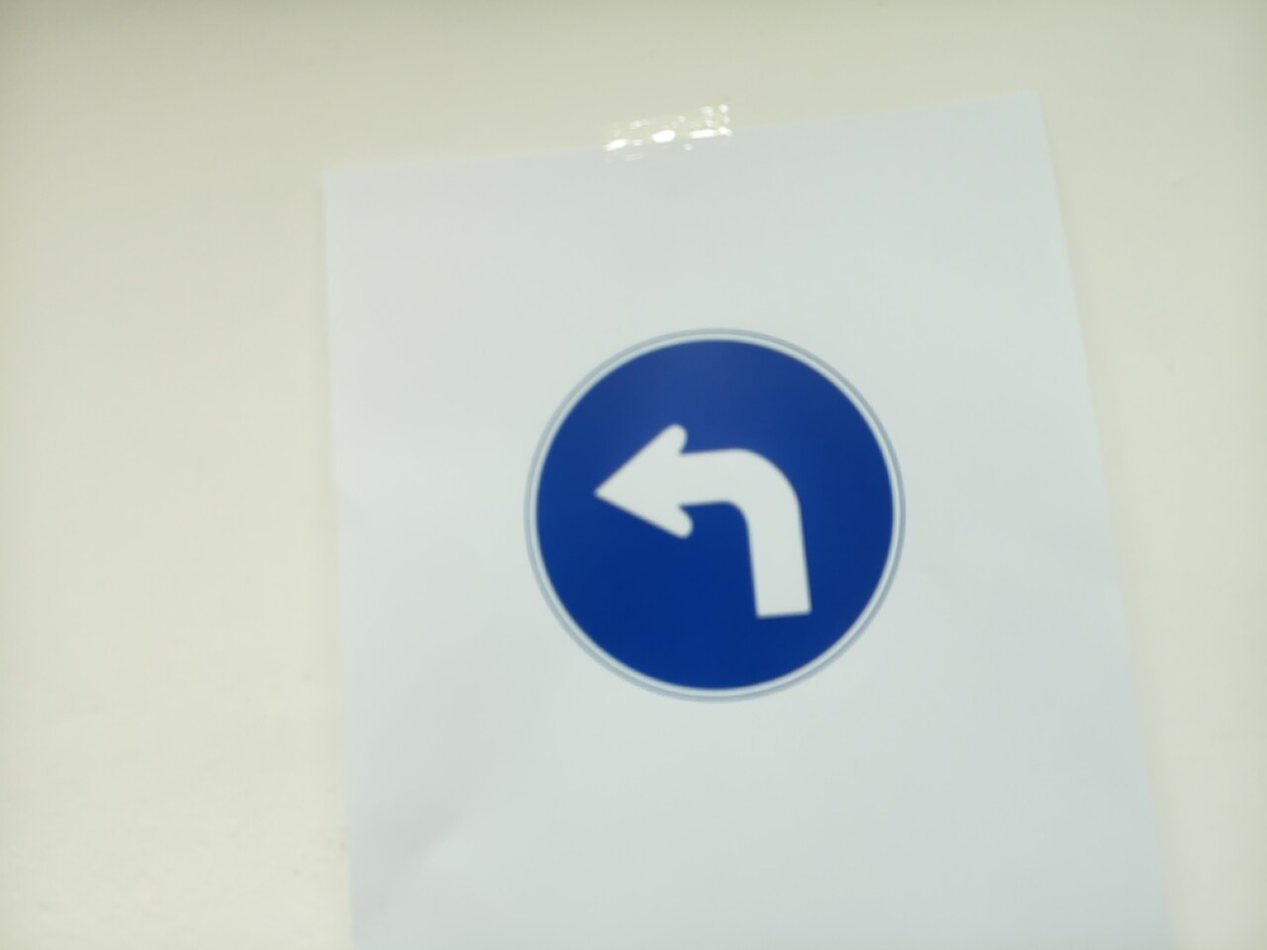left_turn: (525, 329, 905, 702)
